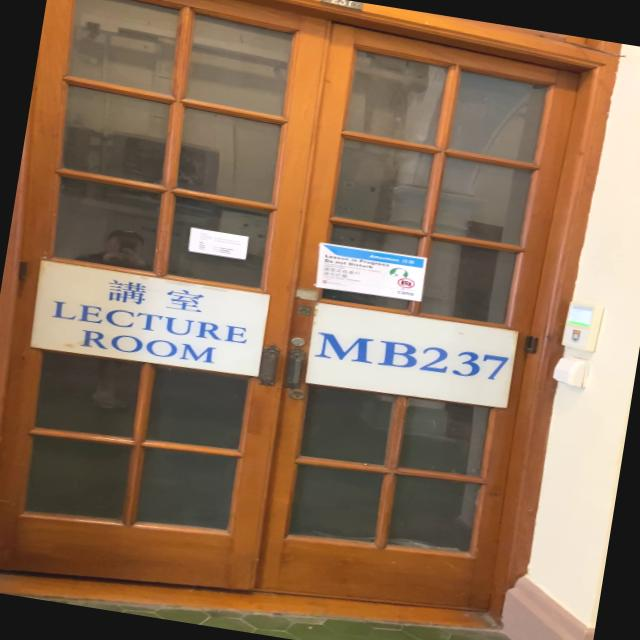room237Window: (302, 306, 516, 410)
